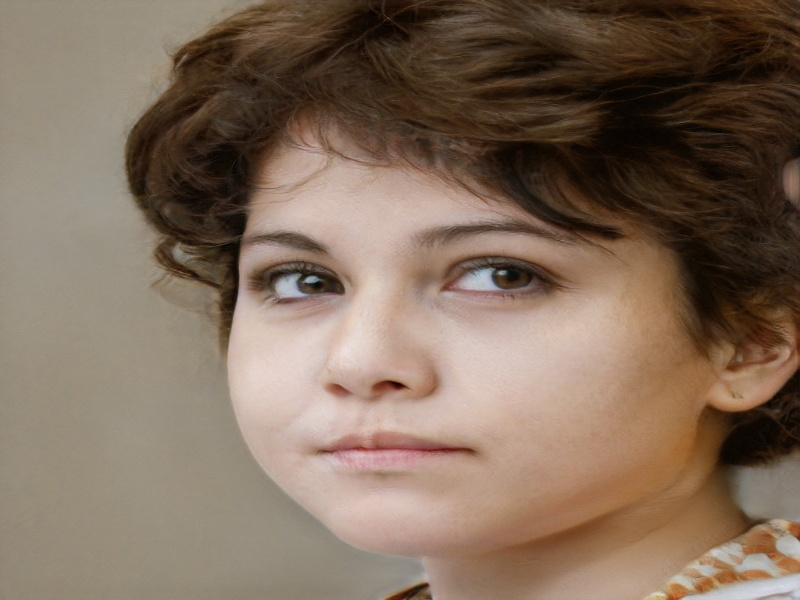face: (248, 229, 590, 488)
